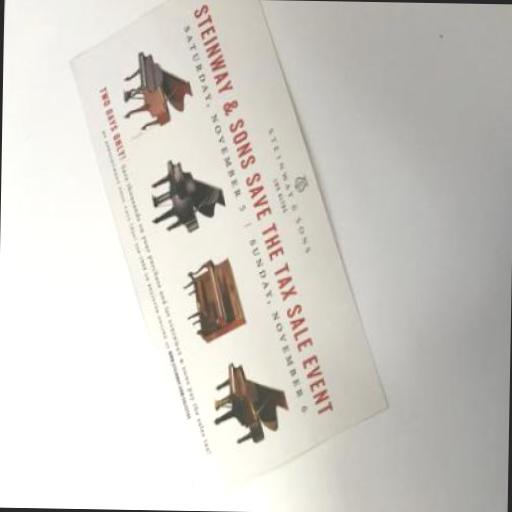paper: (59, 0, 394, 500)
